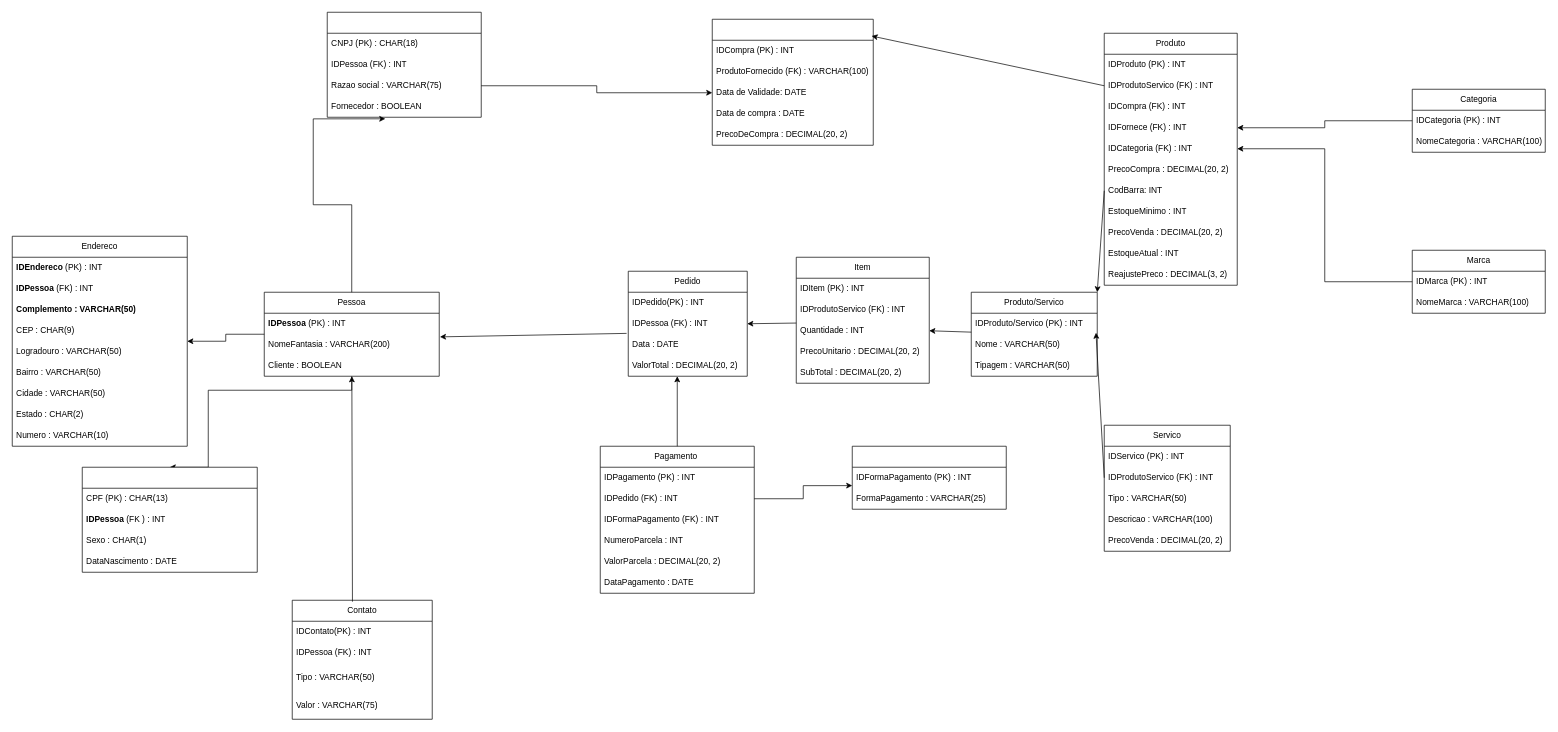
The diagram is 1558 pixels wide and 732 high, and some of its shapes have lost their labels. Each missing label, with the box of its shape:
FormaDePagamento: (852, 446, 1006, 509)
Fornece: (712, 19, 873, 145)
Pessoa Fisica: (82, 467, 257, 572)
Pessoa Juridica: (327, 12, 481, 117)
